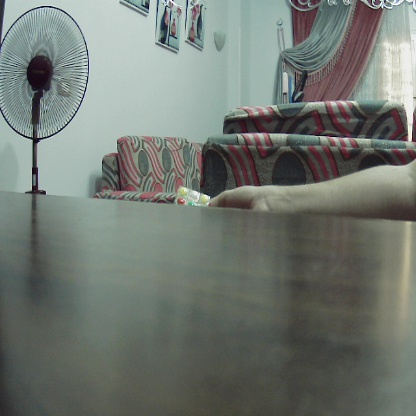Rubix Cube: (175, 187, 211, 209)
